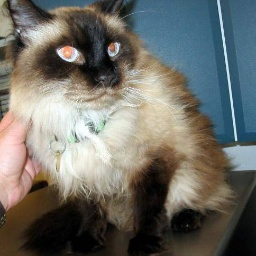cat: (2, 0, 230, 225)
